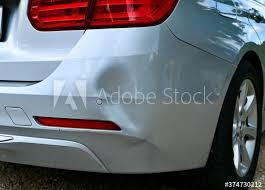rear-bumper-dent: (26, 51, 218, 171)
